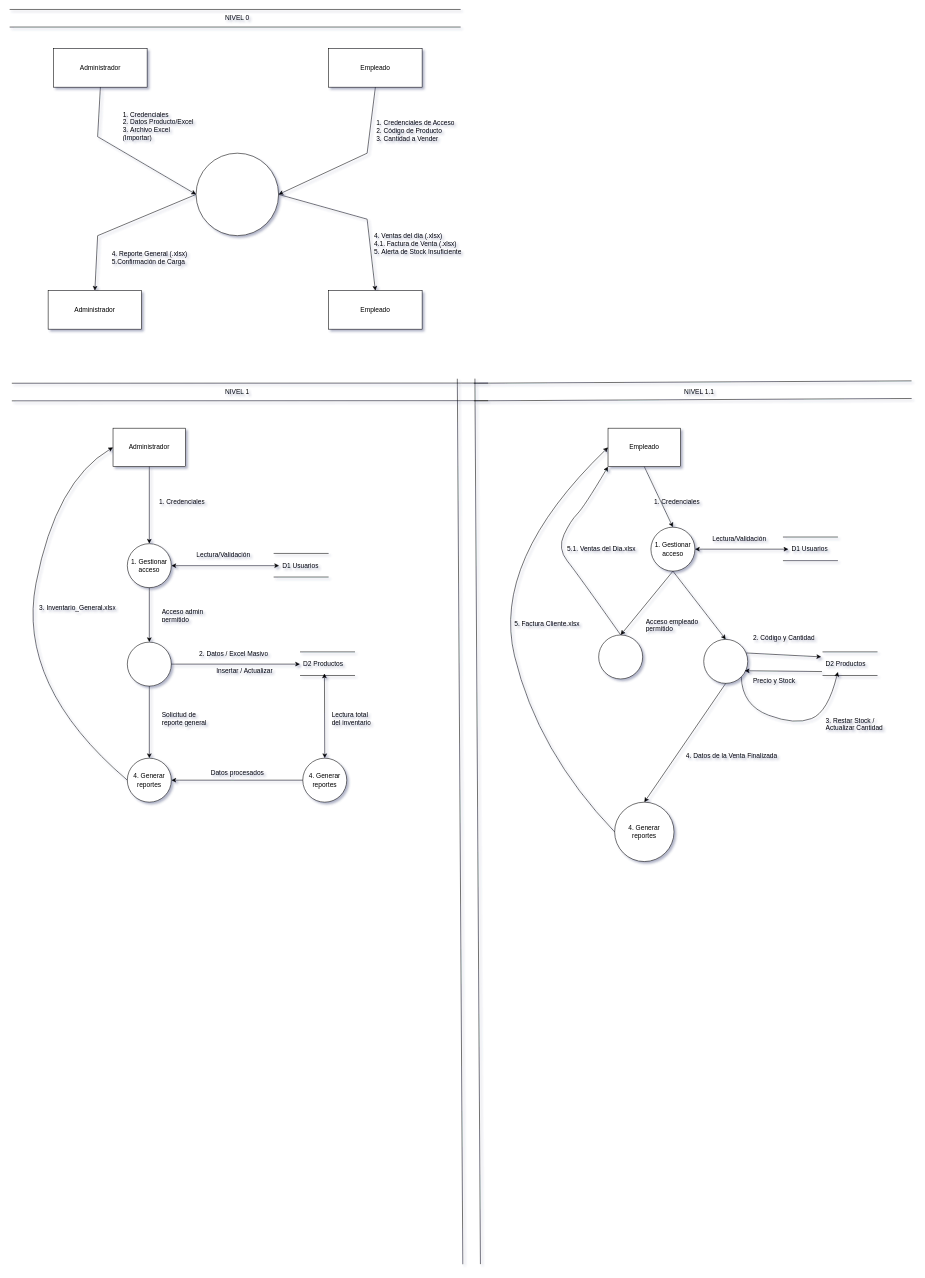
This 925x1278 diagram has some shape labels left out. Each missing label, with the centre of its shape:
0. Sistema de Inventario: the point at 237,194
2. Gestionar inventario: the point at 149,664
3. Procesar ventas: the point at 725,661
3.1. Cerrar Sección (Reporte): the point at 620,656
